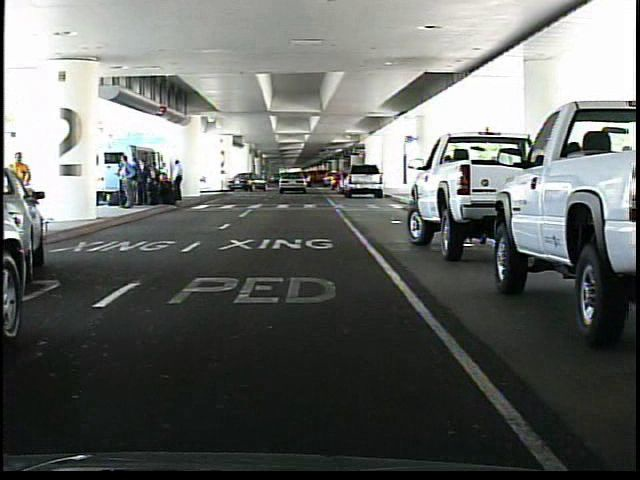person: (5, 148, 37, 237)
